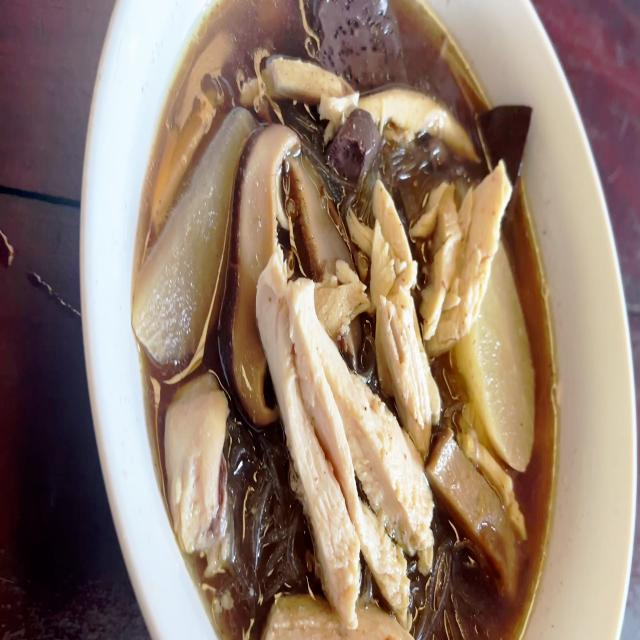boiled_chicken_blood_jelly: (320, 0, 406, 77), (480, 105, 537, 188), (332, 112, 383, 196)
chicken_shredded: (267, 263, 422, 597), (376, 197, 434, 460), (424, 172, 510, 343), (160, 390, 226, 551), (354, 70, 470, 154), (270, 595, 412, 640), (269, 55, 357, 107)
daikon_radish: (134, 124, 244, 378), (473, 272, 533, 466)
noodle: (145, 0, 556, 640)
